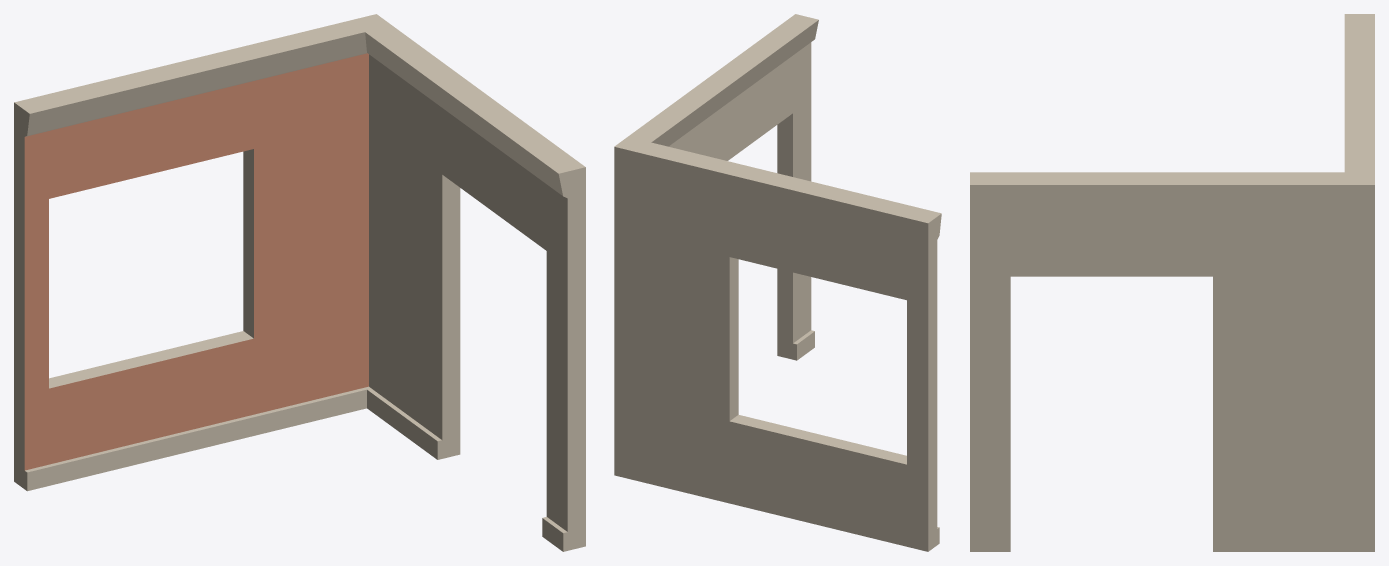
File: Wal_3_11.fbx
3 views of the same model, side by side, from view 1: azimuth 30°, elevation 25°; view 2: azimuth 150°, elevation 25°; view 3: azimuth 270°, elevation 25° (orthographic). The views are drawn at different scales.
Visible parts, largest first — view 1: polySurface1936; view 2: polySurface1936; view 3: polySurface1936.
Boxes of the visible parts, box(x1,y1,x2,y2) form: polySurface1936: box(14, 14, 585, 551); polySurface1936: box(614, 14, 941, 551); polySurface1936: box(970, 14, 1374, 551).
Bounding box in the file's own units: 4 × 4 × 4.
1 material, 1 textured.
